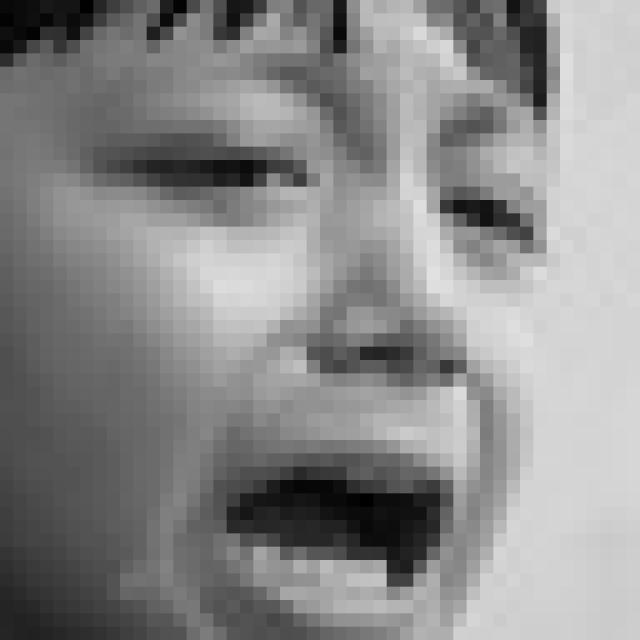sad: (88, 59, 545, 640)
